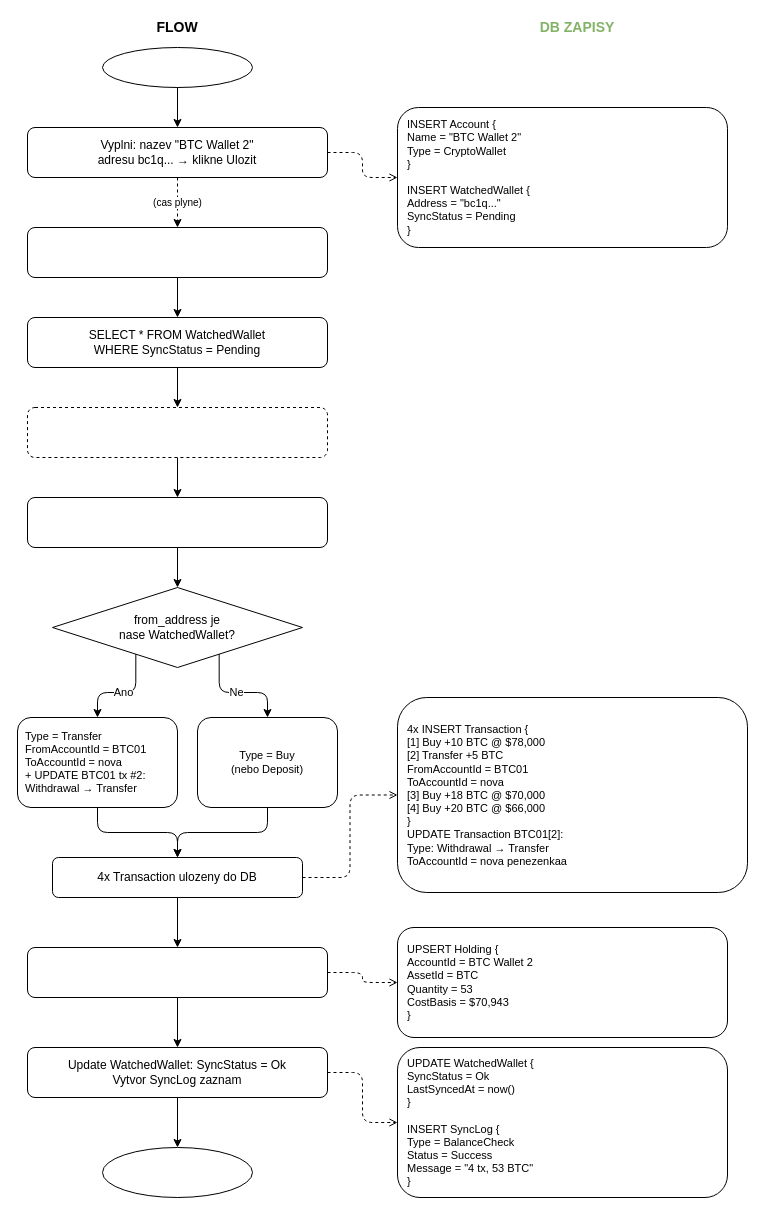
This 765x1215 diagram has some shape labels left out. The shapes that lost their labels are listed below. From the top down, each one's centre as x and y in pixels, then its label:
At pixel 177 67: "START".
At pixel 177 252: "Server: sync job (cron, kazda minuta)".
At pixel 177 432: "Blockchain API GET /address/bc1q.../txs".
At pixel 177 522: "Iteruje 4 nalezene transakce z blockchainu".
At pixel 177 972: "Prepocitej Holding ze vsech tx Qty = 53 BTC, AvgCostBasis ≈ $70,943".
At pixel 177 1172: "UI: BTC Wallet 2 53 BTC zobrazeno".
